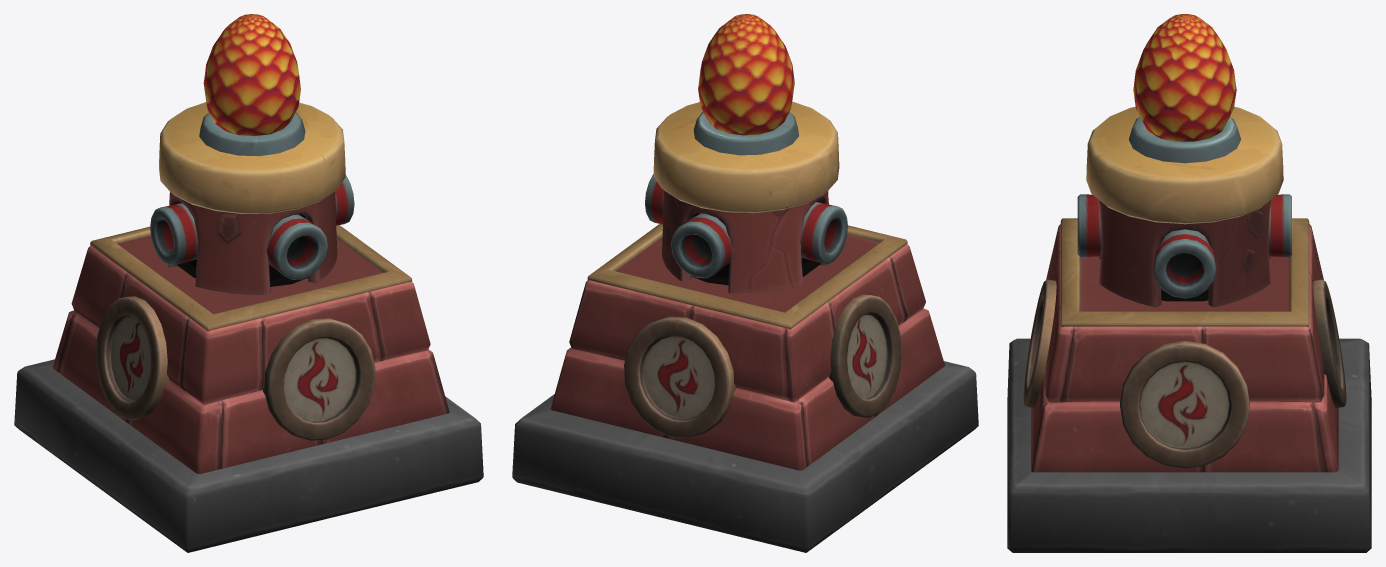
Rendered from SM_TowerDefense_Fire_Lv1.fbx.
The picture shows the model from 3 angles, left to right: view 1: azimuth 30°, elevation 25°; view 2: azimuth 150°, elevation 25°; view 3: azimuth 270°, elevation 25°; orthographic projection. The views are drawn at different scales.
Parts seen in each view (by area): view 1: SM_TowerDefense_Fire_Lv1; view 2: SM_TowerDefense_Fire_Lv1; view 3: SM_TowerDefense_Fire_Lv1.
Part boxes in pixels (x1,y1,x2,y2): SM_TowerDefense_Fire_Lv1: [14, 14, 483, 552]; SM_TowerDefense_Fire_Lv1: [512, 14, 978, 552]; SM_TowerDefense_Fire_Lv1: [1007, 14, 1371, 552].
Size of the model in its own units: 712 by 1003 by 715.
